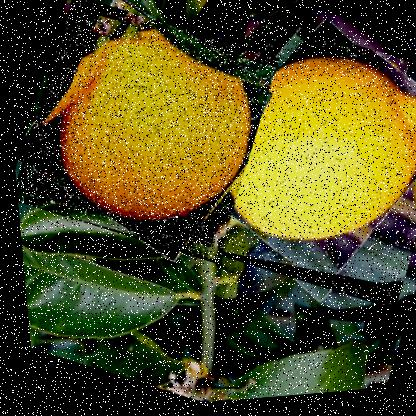lemon: (159, 4, 415, 330), (0, 0, 294, 280)
